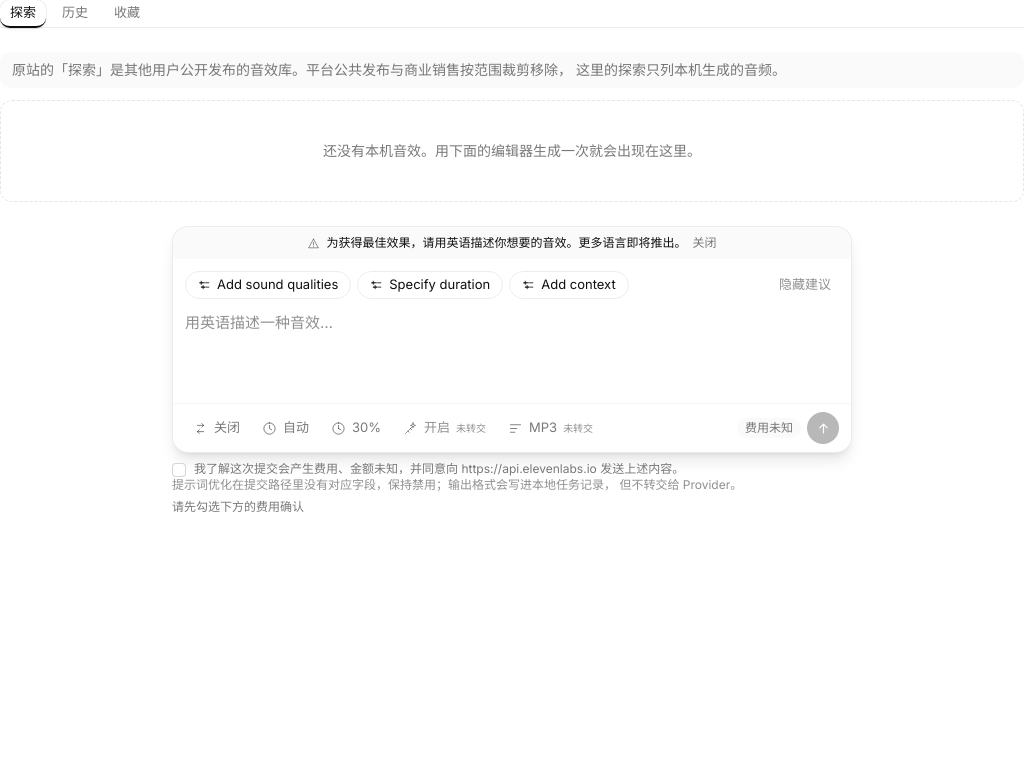
SfxPage › an identical re-submission reuses the job and never runs again
Type "同一个音效" into the text box named "音效提示词" at (512, 351), box [185, 311, 839, 391]
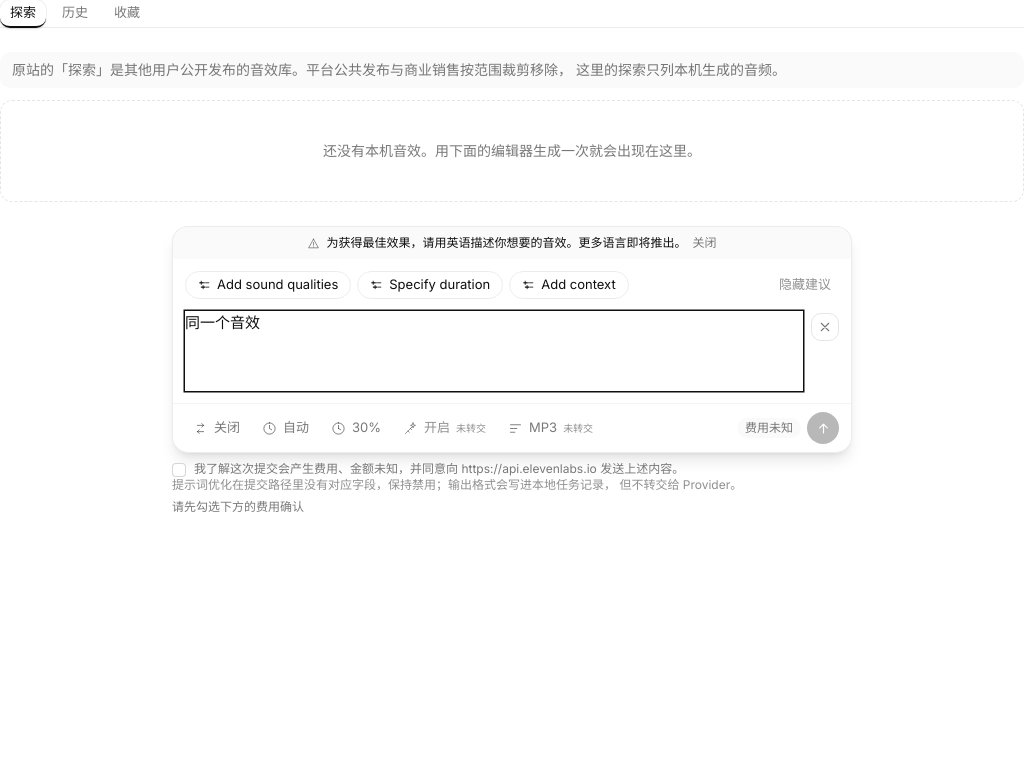
Click the checkbox labelled "我了解这次提交会产生费用、金额未知，并同意向 https://api.elevenlabs.io 发送上述内容。" at (179, 470), box [172, 463, 186, 477]
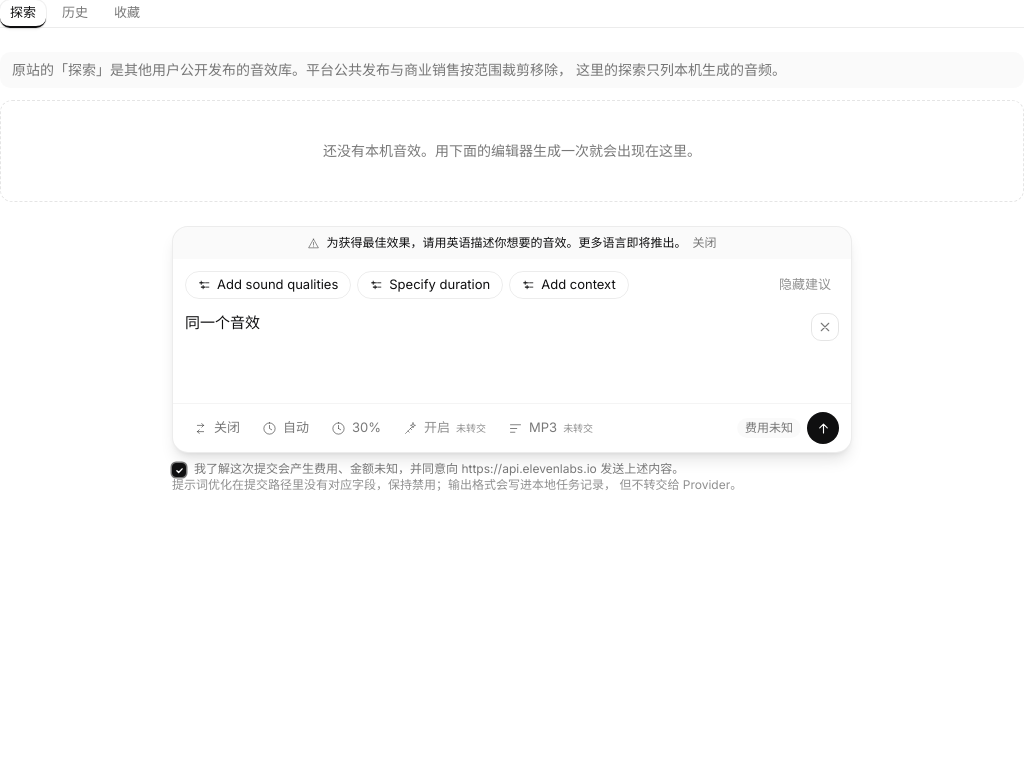
Click the button named "生成音效" at (823, 428), box [807, 412, 839, 444]
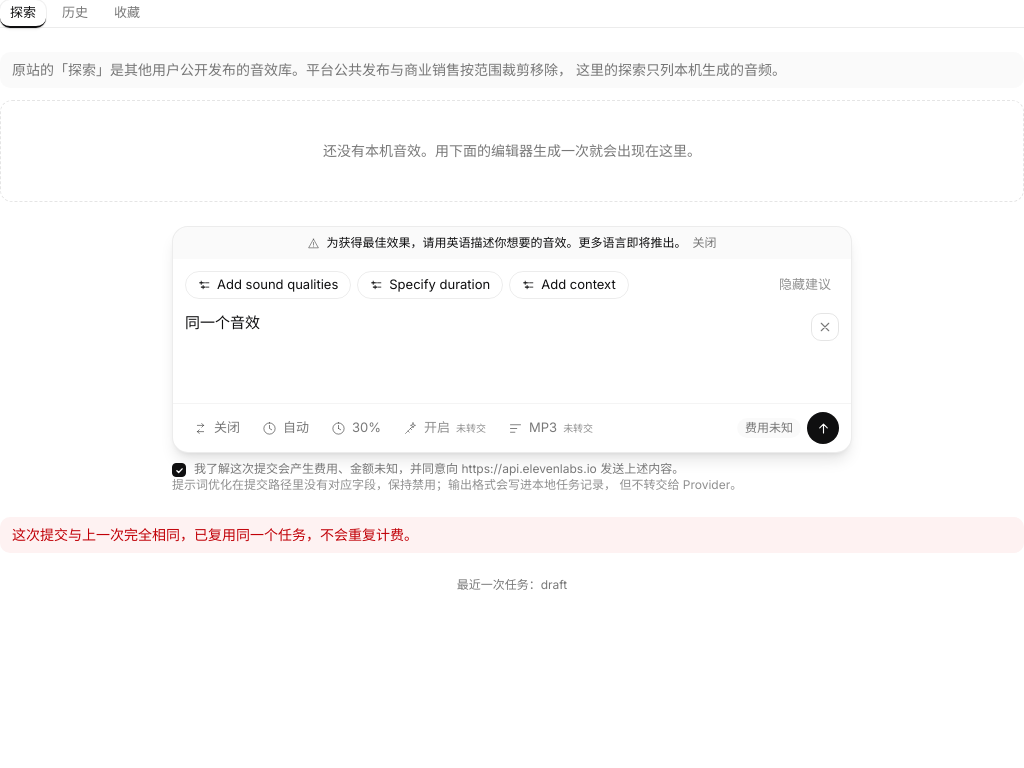
Now the text "这次提交与上一次完全相同，已复用同一个任务，不会重复计费。" is shown, box [0, 517, 1023, 553]
